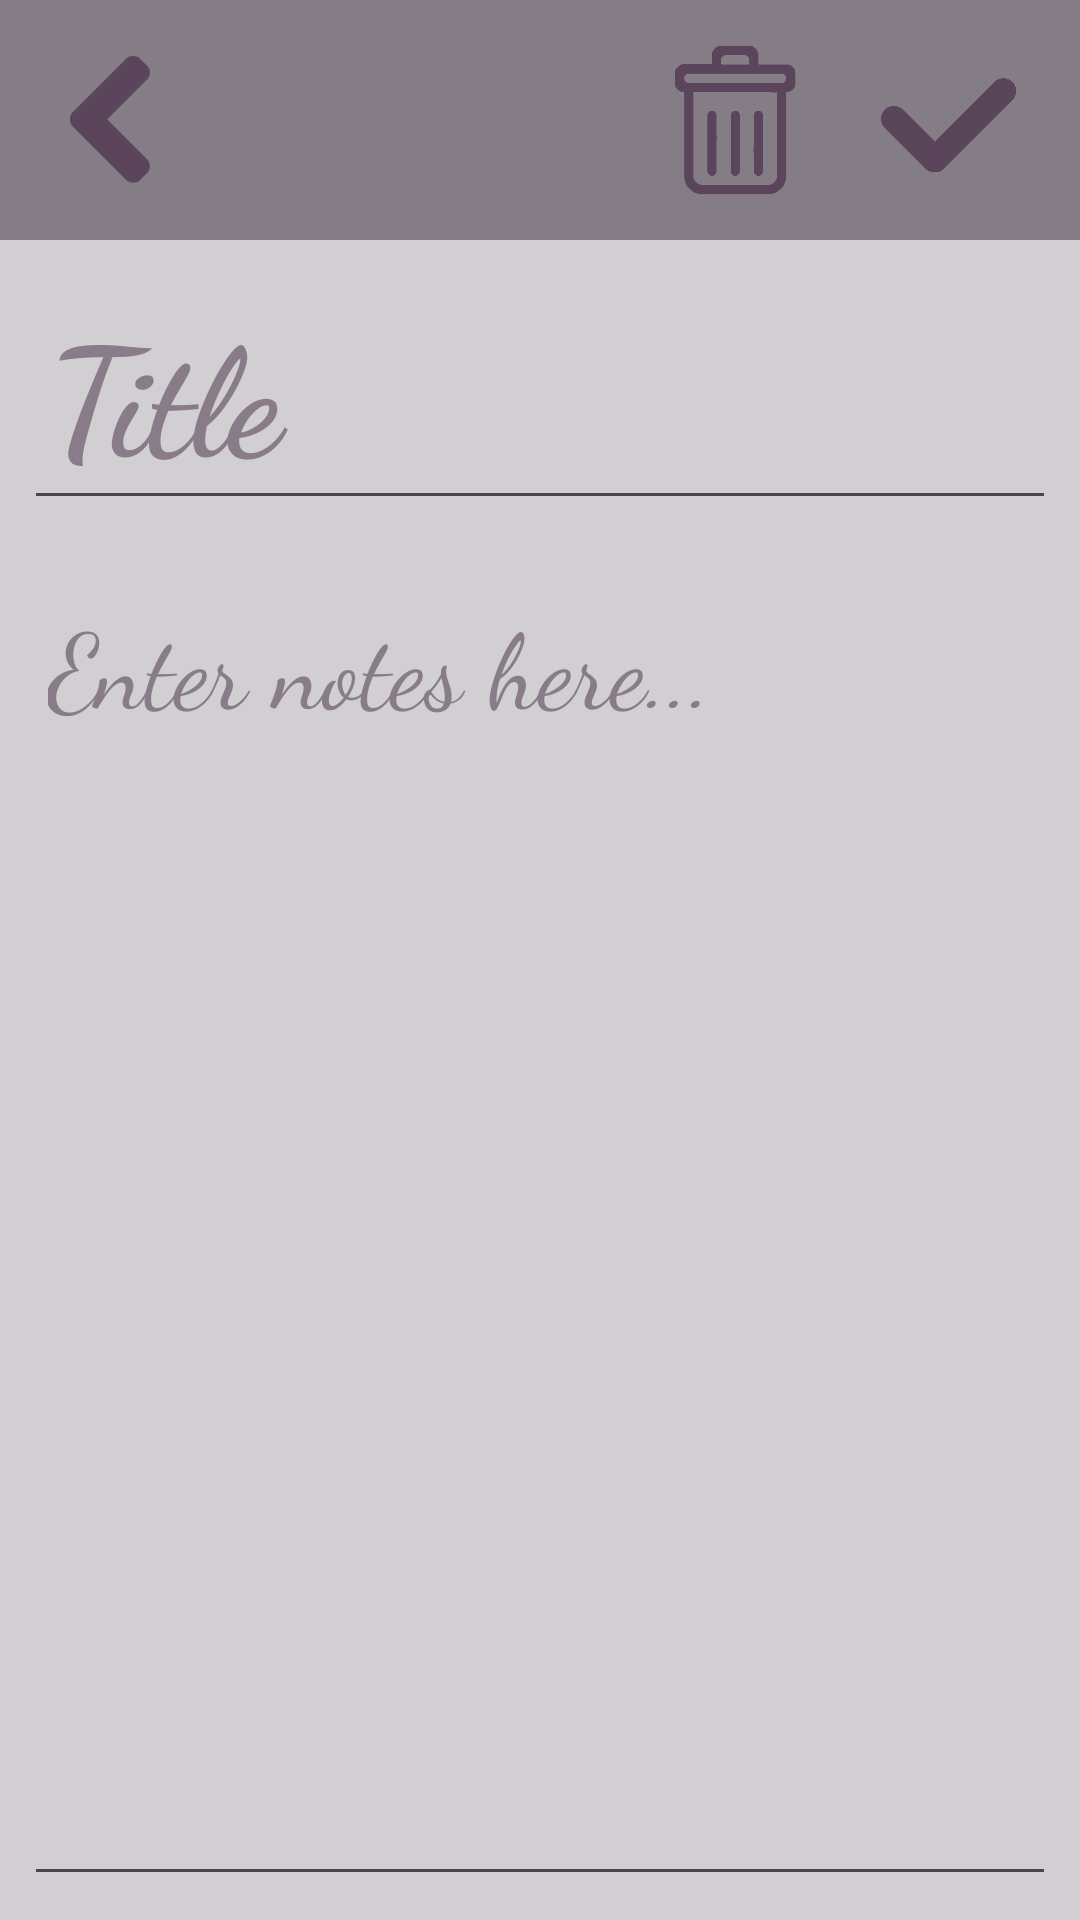

Screen size 1080*1920. Icon name, then its box in pixels as (x1, y1, x2, y2):
back: (70, 56, 150, 183)
bin: (675, 46, 795, 194)
tick: (881, 78, 1016, 172)
